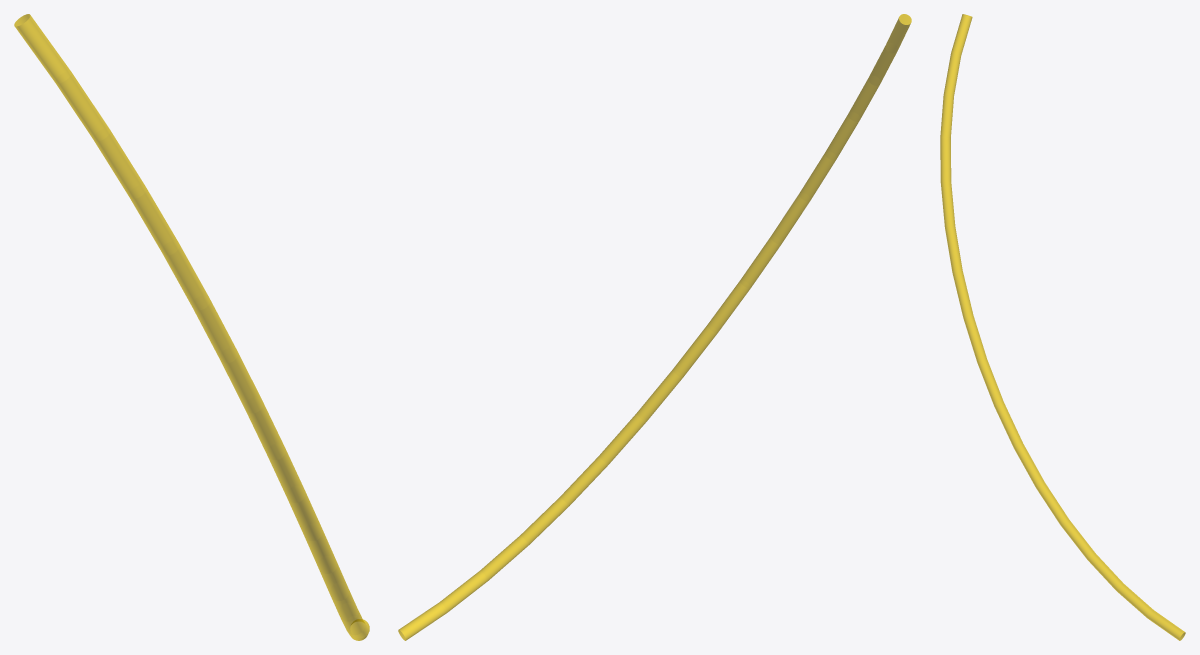
The model's file is Event_100608114_track_16.fbx.
3 renders of one model, left to right at view 1: azimuth 30°, elevation 25°; view 2: azimuth 150°, elevation 25°; view 3: azimuth 270°, elevation 25°, orthographic. The views are drawn at different scales.
Visible parts, largest first — view 1: Model; view 2: Model; view 3: Model.
Part boxes in pixels (x1=…): Model: x1=14, y1=14, x2=369, y2=640; Model: x1=398, y1=14, x2=911, y2=640; Model: x1=940, y1=14, x2=1185, y2=640.
Bounding box in the file's own units: 1.3 × 2.03 × 0.928.
